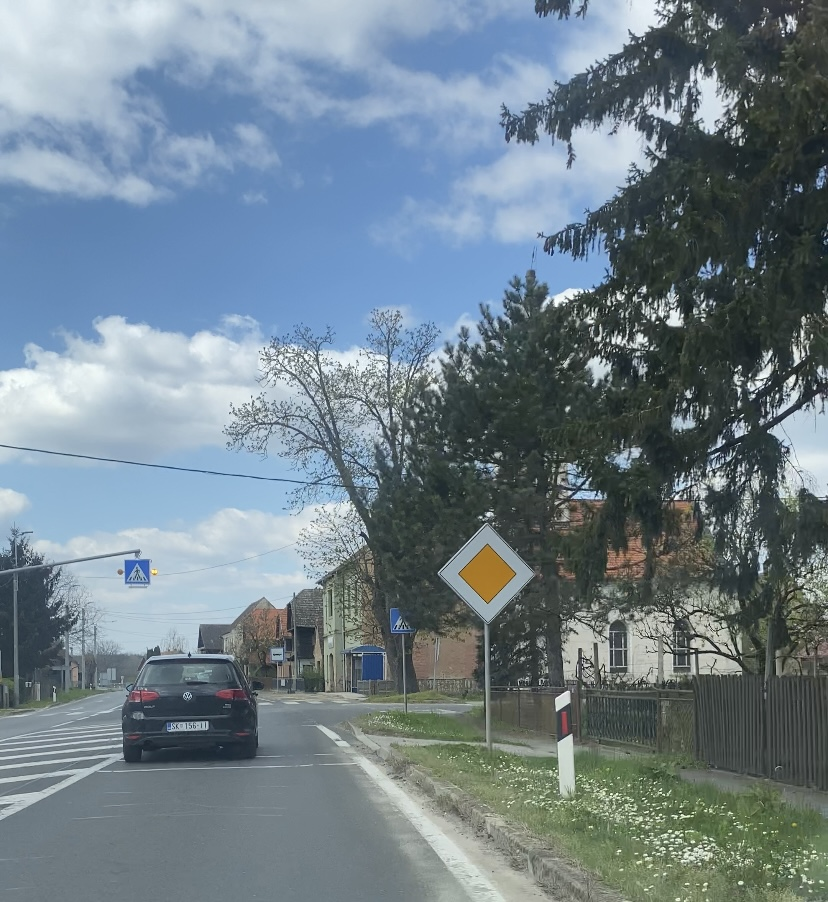Cesta s prednošću prolaska: (436, 522, 537, 624)
Pješački prijelaz: (125, 559, 150, 584)
